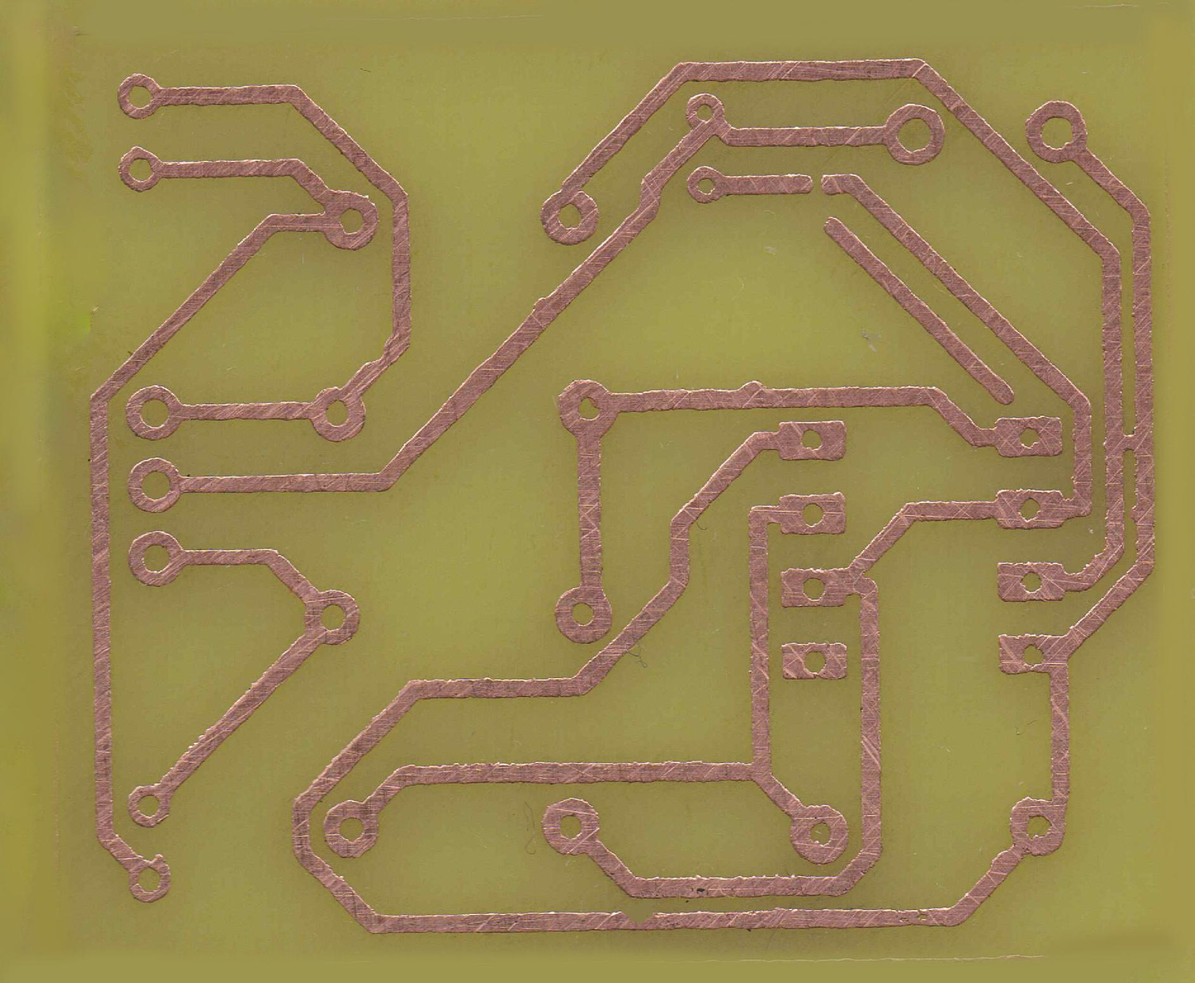missing_hole: (126, 851, 172, 903)
mouse_bite: (619, 906, 662, 935), (363, 345, 392, 375)
open_circuit: (801, 170, 832, 198)
short: (1100, 422, 1159, 458)
spur: (732, 373, 771, 415)
spurious_copper: (820, 214, 1020, 409)
